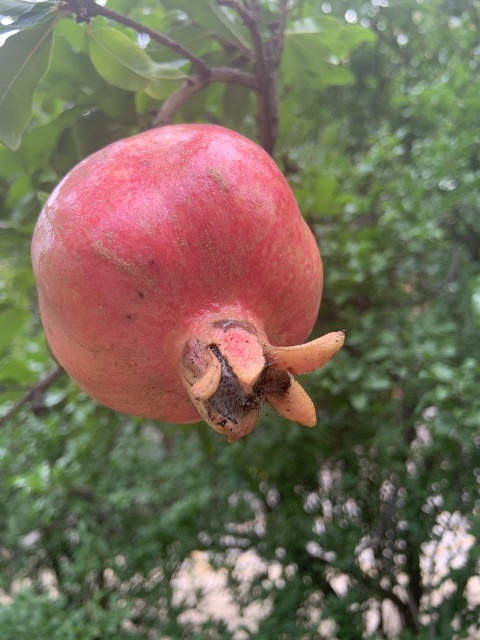ripe: (27, 123, 345, 442)
